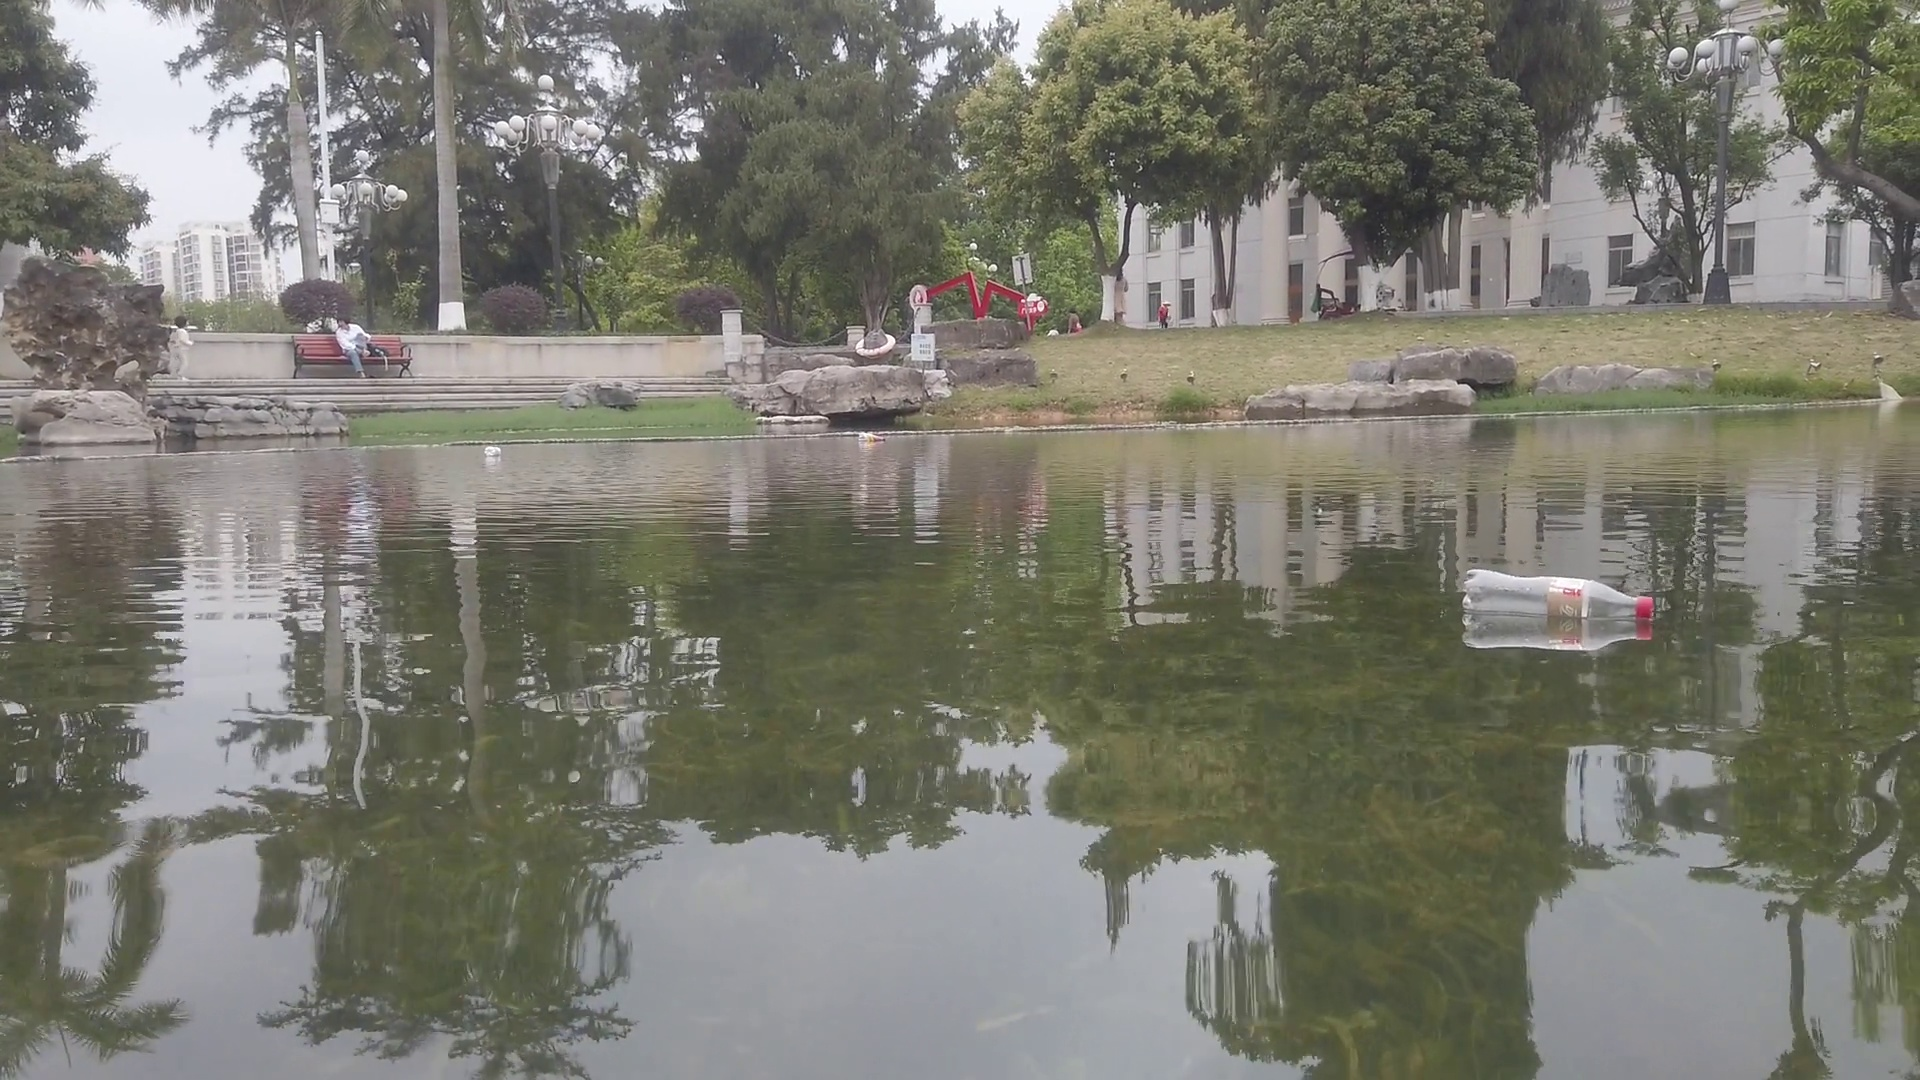bottle: (1462, 564, 1658, 626), (858, 430, 887, 443), (485, 444, 500, 458)
